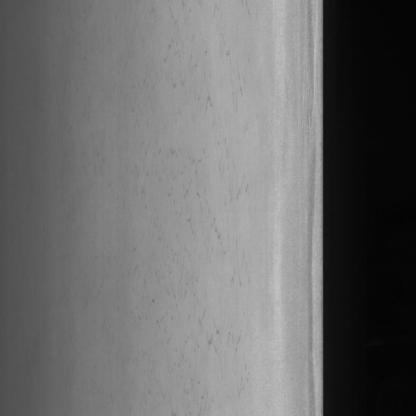silk_spot: (136, 13, 256, 378)
